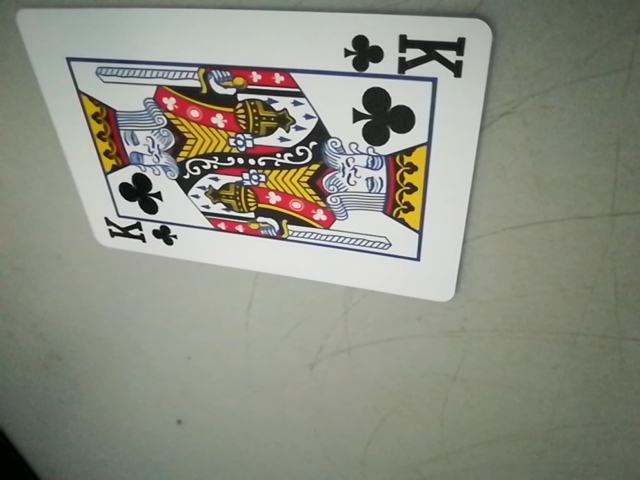mh k: (340, 28, 470, 80), (98, 215, 182, 253)
